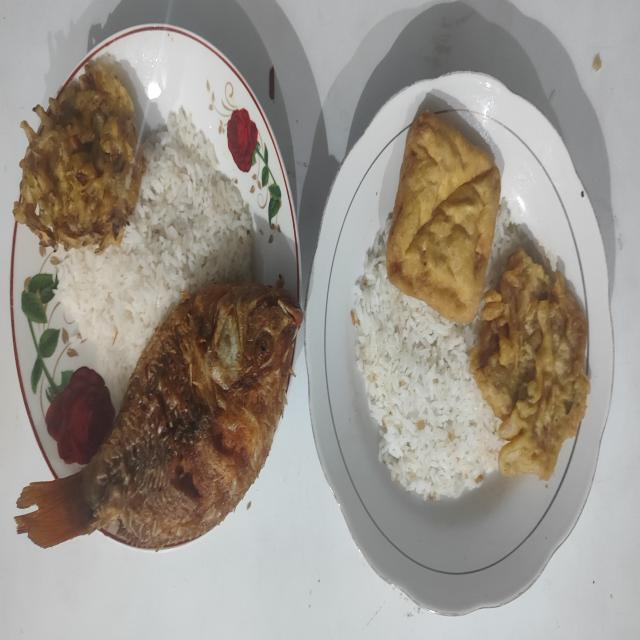ikan_mujair: (16, 278, 302, 550)
nasi_putih: (58, 110, 252, 408), (352, 220, 504, 500), (486, 198, 559, 288)
tahu_goreng: (386, 111, 501, 323)
